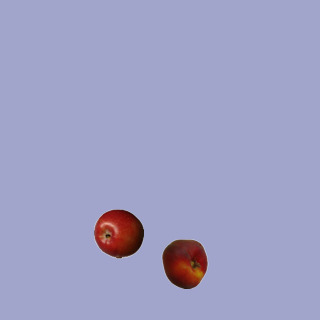Apple Braeburn: (93, 208, 143, 258)
Nectarine Flat: (159, 238, 209, 288)
